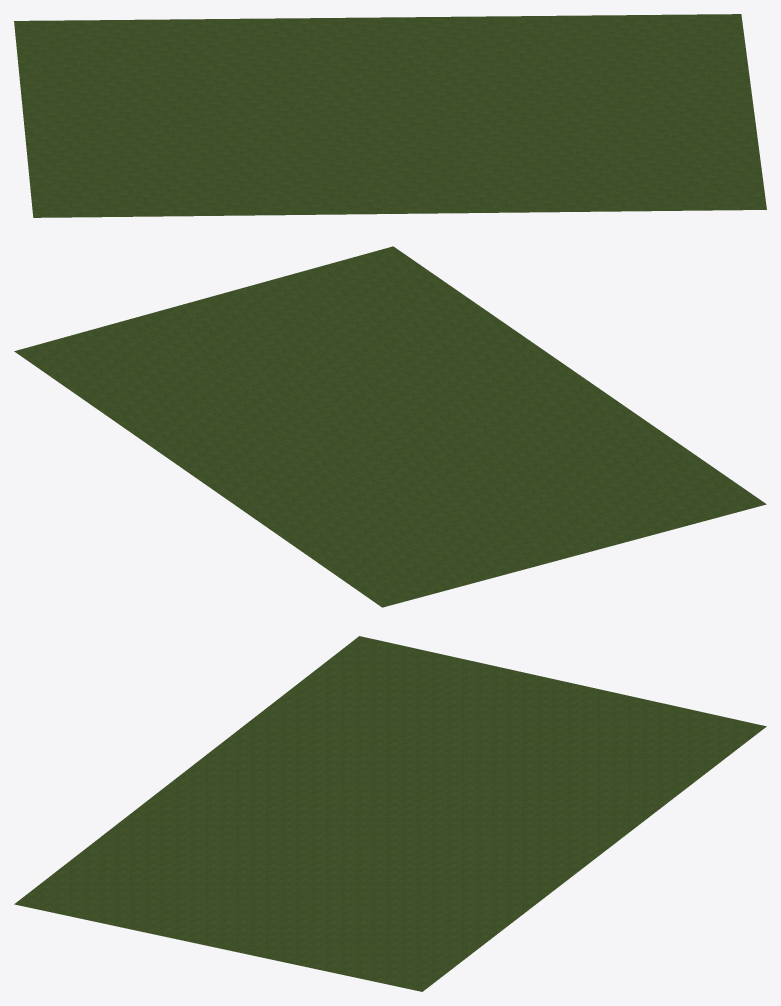
The model's file is dimian.gltf.
3 renders of one model, top to bottom at view 1: azimuth 30°, elevation 25°; view 2: azimuth 150°, elevation 25°; view 3: azimuth 270°, elevation 25°, orthographic. The views are drawn at different scales.
Visible parts, largest first — view 1: Line3117664; view 2: Line3117664; view 3: Line3117664.
Boxes of the visible parts, <box> form: Line3117664: <box>14,14,766,217</box>; Line3117664: <box>14,246,766,607</box>; Line3117664: <box>14,636,766,991</box>.
Size of the model in its own units: 11149 by 4.62 by 9971.
1 material, 1 textured.
